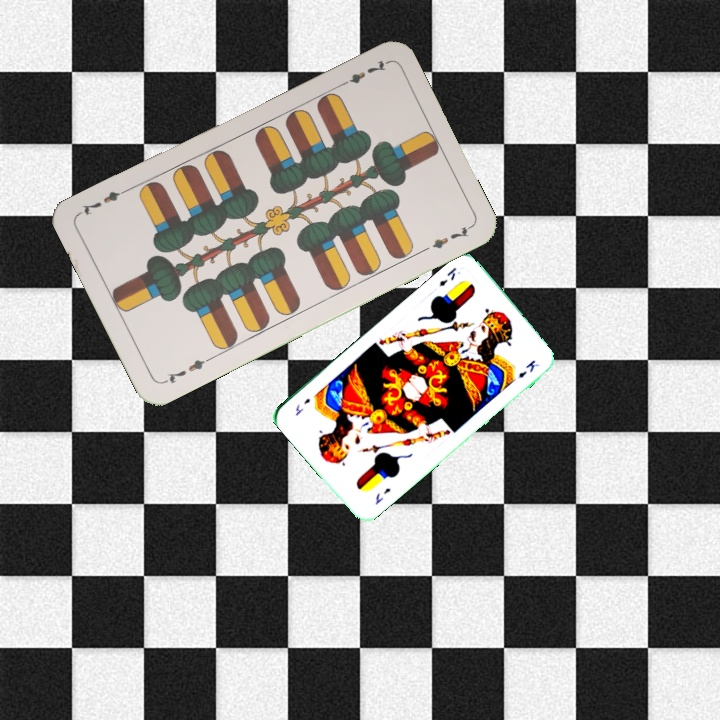E7: (334, 56, 390, 90), (159, 353, 214, 386)
EK: (435, 263, 459, 289), (371, 484, 393, 508)
